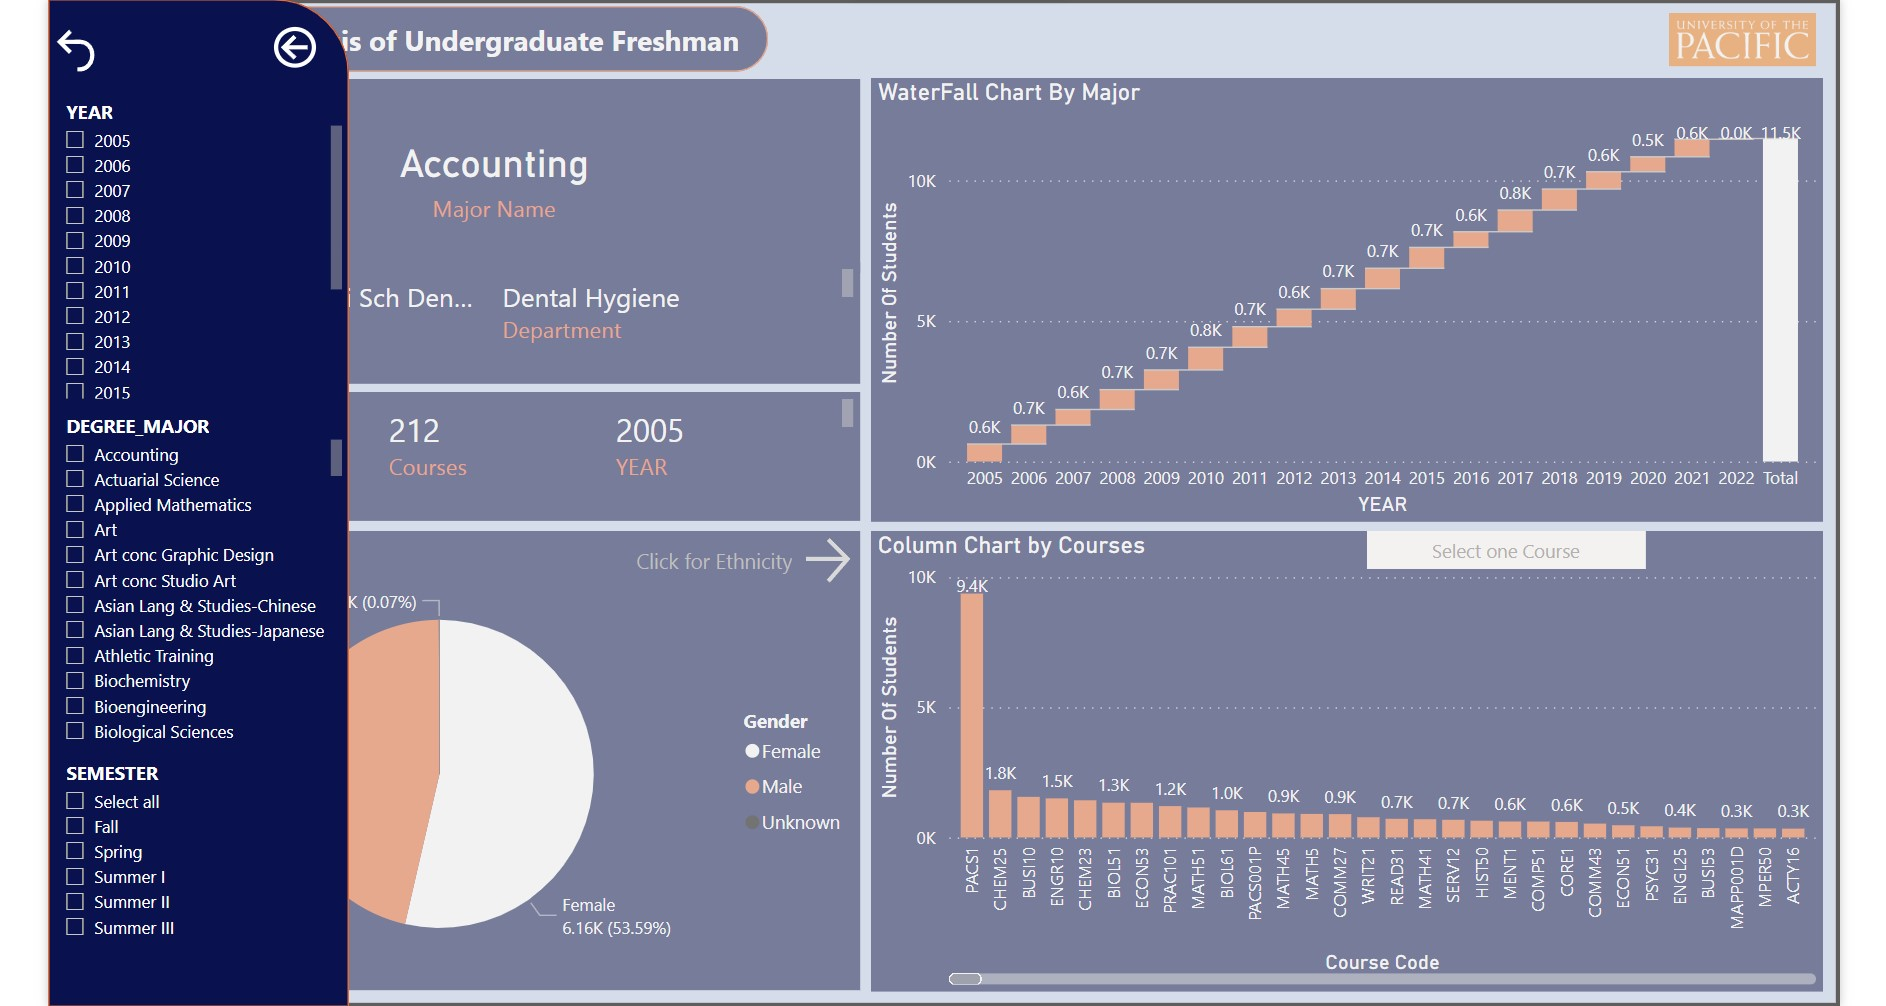

This screenshot's page, from the dashboard's own definition file:
{"tool":"powerbi","page":{"name":"Overview","canvas":[1280,720],"ordinal":0},"visuals":[{"type":"actionButton","title":"Slicer Overview Button","box":[0,0,47.1,45.3],"z":0},{"type":"pieChart","title":"Pie Chart Gender","fields":{"Category":["Student_Demographics.GENDER_DESC"],"Y":["Count(Student_Demographics.PIDM)"]},"box":[57,380.3,522.6,328],"z":0,"group":"g1"},{"type":"actionButton","title":"Matrix Button","box":[0,92.1,46.6,41.4],"z":1000},{"type":"actionButton","title":"Gender Button","box":[374.3,380.2,203.2,42.2],"z":1000,"group":"g1"},{"type":"columnChart","title":"Column Chart by Courses","fields":{"Y":["Count(Student_AcademicInfo.PIDM)"],"Category":["CourseCode-Title.CRSE_NAME_CODE"]},"box":[587.8,379.9,680.3,328.7],"z":2000},{"type":"card","title":"Major Name Card","fields":{"Values":["Min(Distinct Major.DEGREE_MAJOR)"]},"box":[56.8,56.8,522.9,138.5],"z":3000},{"type":"multiRowCard","title":"Degree&School","fields":{"Values":["Student_Demographics.DEGREE_COLLEGE_NAME","Student_Demographics.MAJOR_DEPARTMENT_DESC"]},"box":[56.8,188.2,522.9,87],"z":4000},{"type":"multiRowCard","title":"Statistics by Major","fields":{"Values":["Count(Student_AcademicInfo.PIDM)","StudentCount_Courses.CRSE_NAME_CODE","StudentCount_Courses.YEAR"]},"box":[63.9,281.4,515.8,91.4],"z":5000},{"type":"multiRowCard","title":"Statistics by Major check","fields":{"Values":["Count(Student_AcademicInfo.PIDM)","Student_AcademicInfo.CRSE_NAME_CODE","Student_AcademicInfo.YEAR"]},"box":[57,281,522.6,92.3],"z":6000},{"type":"waterfallChart","title":"WaterFall Chart By Major","fields":{"Category":["Student_AcademicInfo.YEAR"],"Y":["Count(Student_AcademicInfo.PIDM)"]},"box":[587.8,56.6,680.3,316.7],"z":7000},{"type":"group","id":"g1","title":"PieChart Gender","box":[57,380.2,522.6,328.1],"z":9000},{"type":"shape","title":"Project Title","box":[56.7,4.6,457.9,47.4],"z":10000},{"type":"image","box":[1152.7,0,115.4,57.7],"z":11000},{"type":"actionButton","title":"InfoPanel Button","box":[0,140.8,46.9,46.9],"z":12000},{"type":"actionButton","title":"OverviewPage Reset Button","box":[0,45.7,46.8,46.8],"z":13000},{"type":"actionButton","title":"DrillThrough Button","box":[942.4,380,198.6,27.2],"z":15000}]}

Visuals, with their boxes on the page's 1280x720 design canvas (x1, y1, x2, y2). These are canvas units, not pixel positions in the 1886x1006 screenshot, which may show the page scaled, cropped or inside an application window:
"Slicer Overview Button" actionButton: (0, 0, 47, 45)
"Pie Chart Gender" pieChart: (57, 380, 580, 708)
"Matrix Button" actionButton: (0, 92, 47, 134)
"Gender Button" actionButton: (374, 380, 578, 422)
"Column Chart by Courses" columnChart: (588, 380, 1268, 709)
"Major Name Card" card: (57, 57, 580, 195)
"Degree&School" multiRowCard: (57, 188, 580, 275)
"Statistics by Major" multiRowCard: (64, 281, 580, 373)
"Statistics by Major check" multiRowCard: (57, 281, 580, 373)
"WaterFall Chart By Major" waterfallChart: (588, 57, 1268, 373)
"PieChart Gender" group: (57, 380, 580, 708)
"Project Title" shape: (57, 5, 515, 52)
image: (1153, 0, 1268, 58)
"InfoPanel Button" actionButton: (0, 141, 47, 188)
"OverviewPage Reset Button" actionButton: (0, 46, 47, 92)
"DrillThrough Button" actionButton: (942, 380, 1141, 407)
